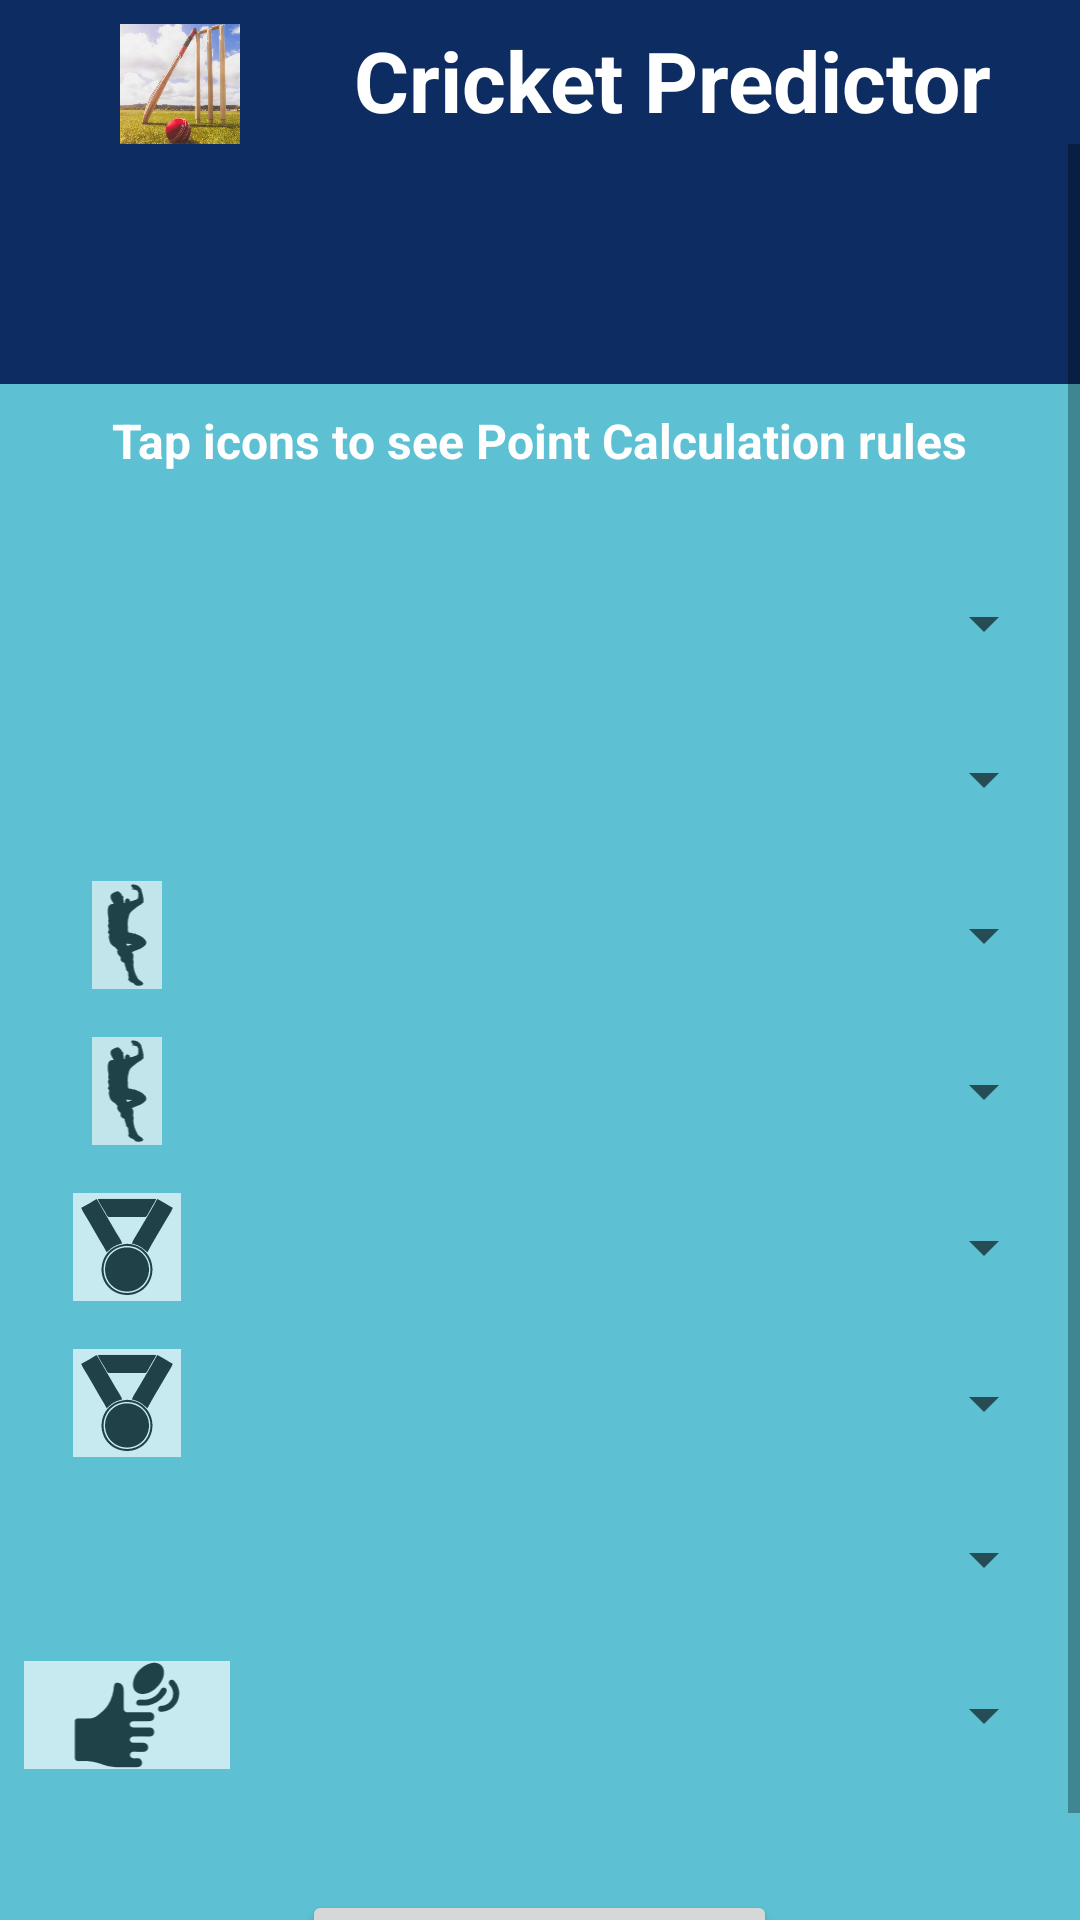

Icon bounding boxes for this 1080px x 1920px phone screenshot, format (x1, y1, x2, y2):
bowler: (92, 881, 162, 989), (92, 1037, 162, 1145)
cricpredict: (120, 24, 240, 144)
mom: (73, 1193, 181, 1301), (73, 1349, 181, 1457)
toss: (24, 1661, 230, 1769)
